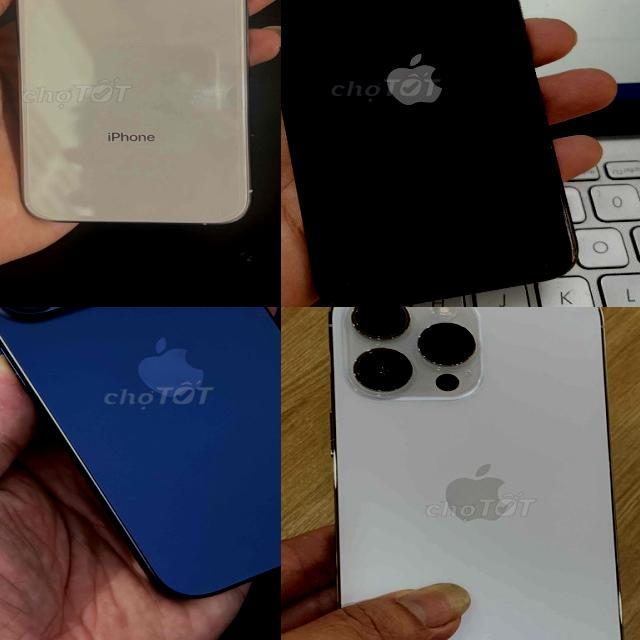gen_14: (312, 307, 632, 640)
gen_15: (0, 307, 281, 586)
gen_x_xs: (0, 0, 259, 230)
scratch: (281, 0, 580, 307), (546, 175, 580, 281)
